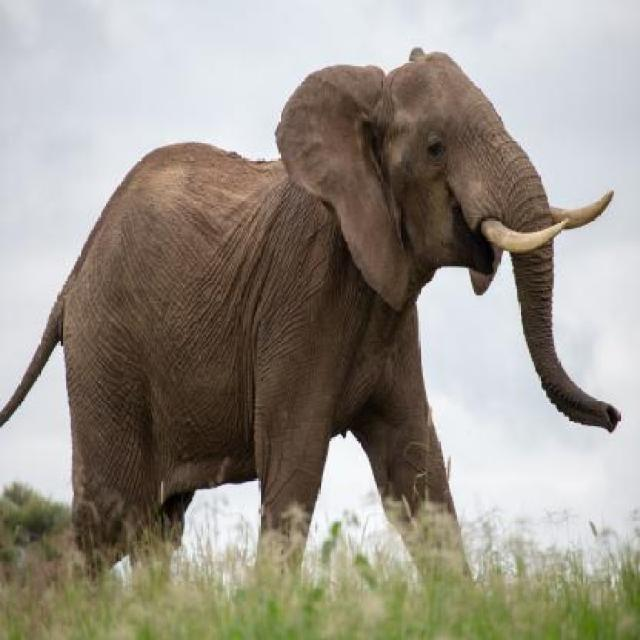Elephant: (0, 27, 622, 613)
